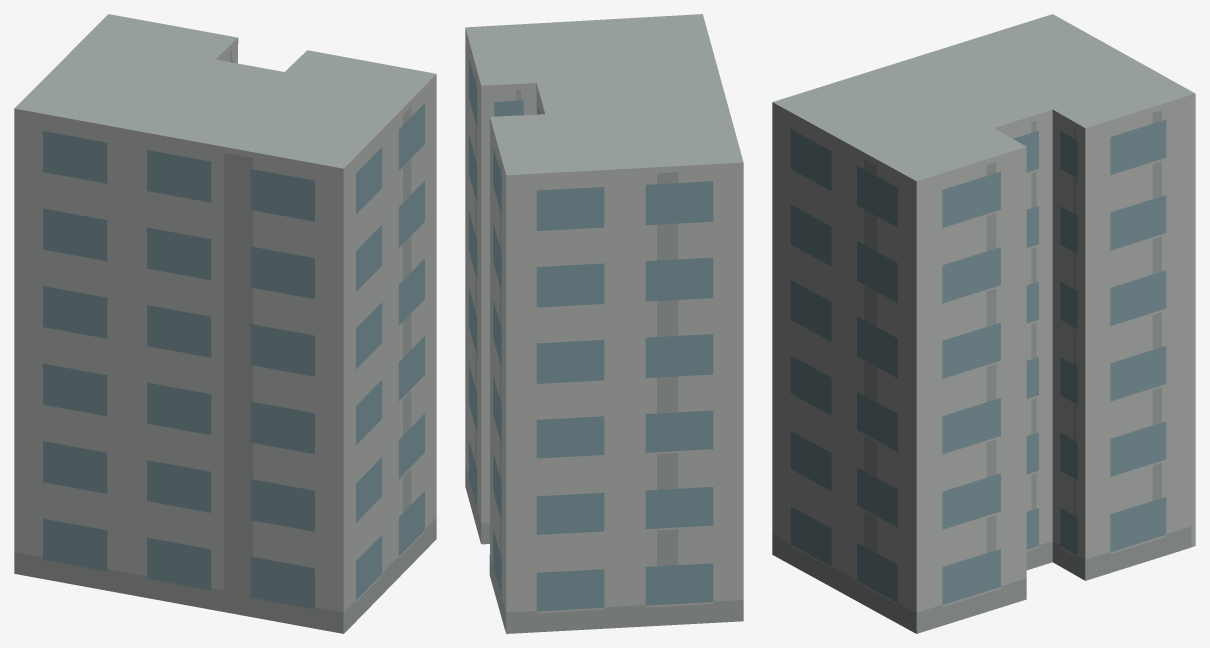
Rendered from survey-upis-33043711.glb.
3 renders of one model, left to right at view 1: azimuth 30°, elevation 25°; view 2: azimuth 150°, elevation 25°; view 3: azimuth 270°, elevation 25°, orthographic. The views are drawn at different scales.
Visible parts, largest first — view 1: survey-upis-33043711.tmp; view 2: survey-upis-33043711.tmp; view 3: survey-upis-33043711.tmp.
Part boxes in pixels (bbox=[...]): survey-upis-33043711.tmp: bbox=[14, 14, 436, 633]; survey-upis-33043711.tmp: bbox=[465, 14, 743, 633]; survey-upis-33043711.tmp: bbox=[772, 14, 1195, 633].
Size of the model in its own units: 14.35 by 18.1 by 15.34.
